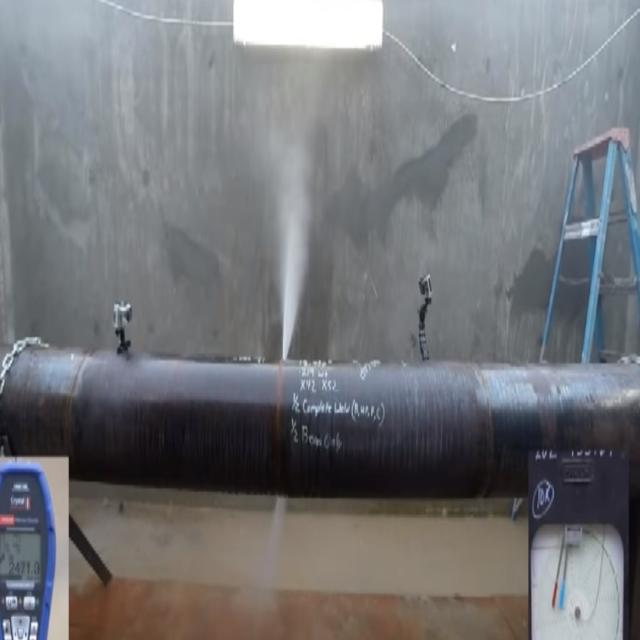leak: (282, 149, 319, 371)
